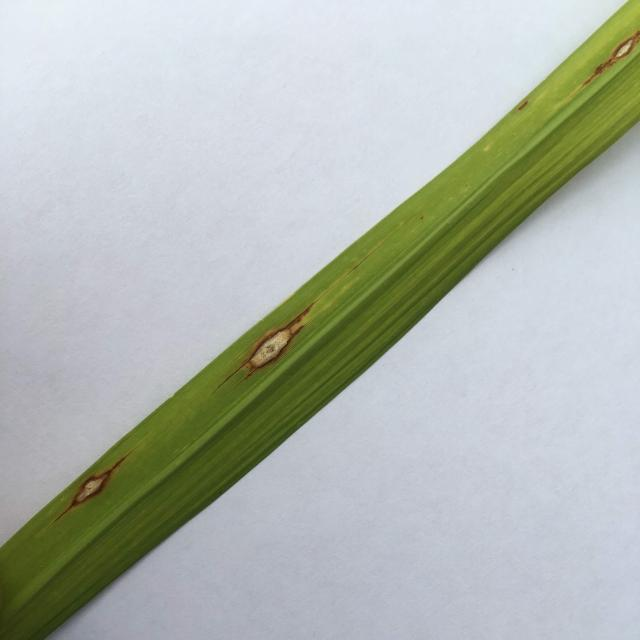Blast: (61, 456, 125, 504), (588, 34, 640, 82), (245, 327, 302, 365)
